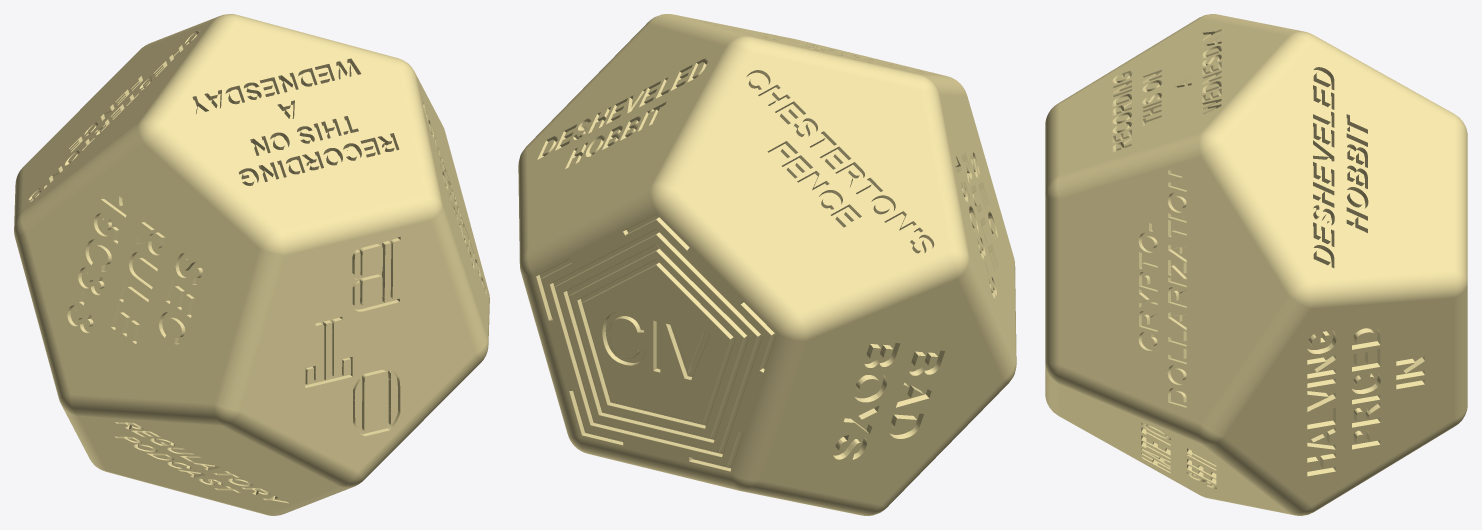
Rendered from digital_trinket.fbx.
The picture shows the model from 3 angles, left to right: view 1: azimuth 30°, elevation 25°; view 2: azimuth 150°, elevation 25°; view 3: azimuth 270°, elevation 25°; orthographic projection. The views are drawn at different scales.
Visible parts, largest first — view 1: Body13; view 2: Body13; view 3: Body13.
Part boxes in pixels (<box>): Body13: <box>14,14,489,515</box>; Body13: <box>518,14,1016,515</box>; Body13: <box>1045,14,1467,515</box>.
Size of the model in its own units: 18.68 by 19.54 by 16.18.
